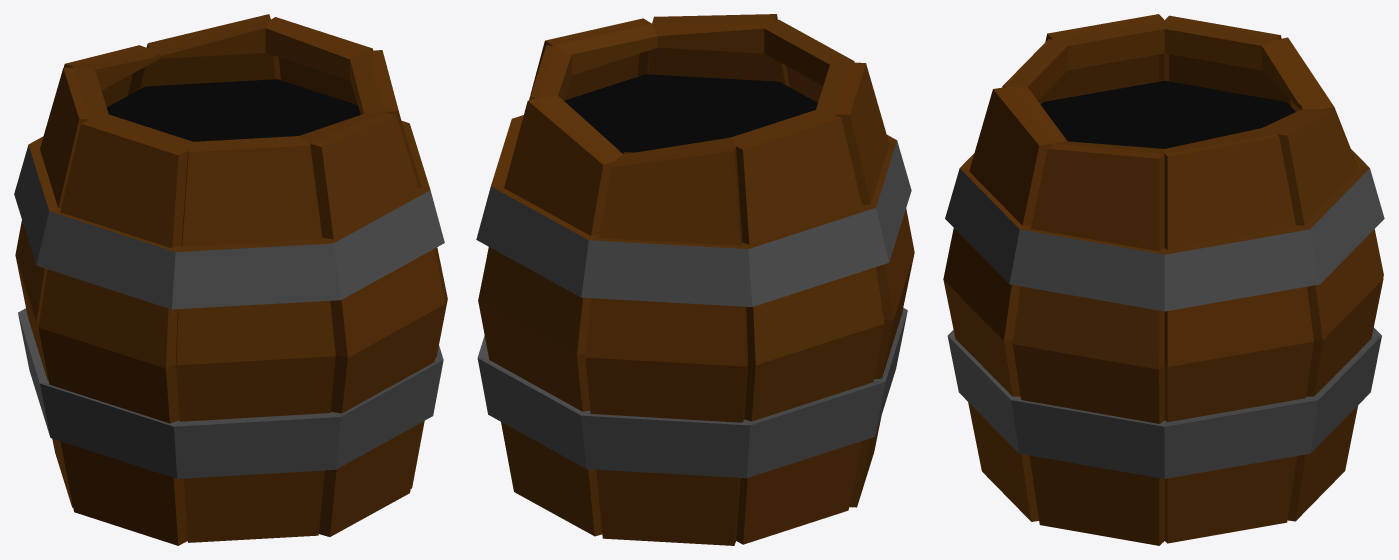
File: fishing rod barrel.fbx
3 renders of one model, left to right at view 1: azimuth 30°, elevation 25°; view 2: azimuth 150°, elevation 25°; view 3: azimuth 270°, elevation 25°, orthographic. The views are drawn at different scales.
Parts seen in each view (by area): view 1: Circle; view 2: Circle; view 3: Circle.
Part boxes in pixels (x1,y1,x2,y2): Circle: (14, 14, 447, 545); Circle: (476, 14, 914, 545); Circle: (943, 14, 1384, 545).
Bounding box in the file's own units: 322 × 306 × 321.
